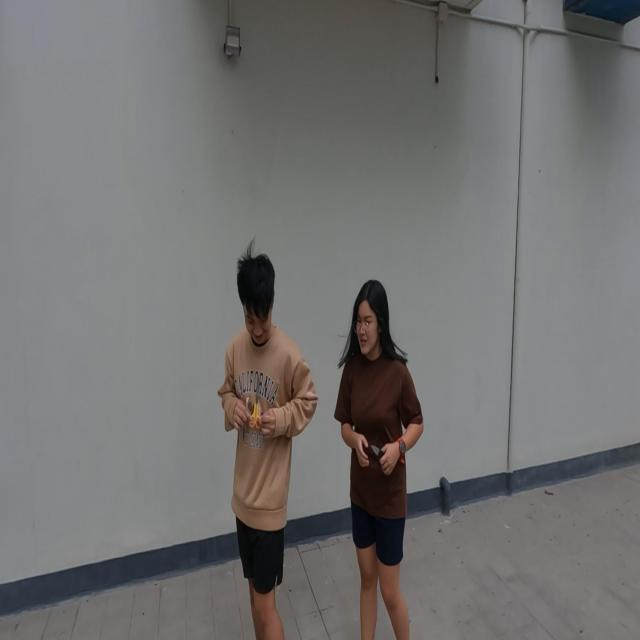scissor: (248, 374, 264, 431)
